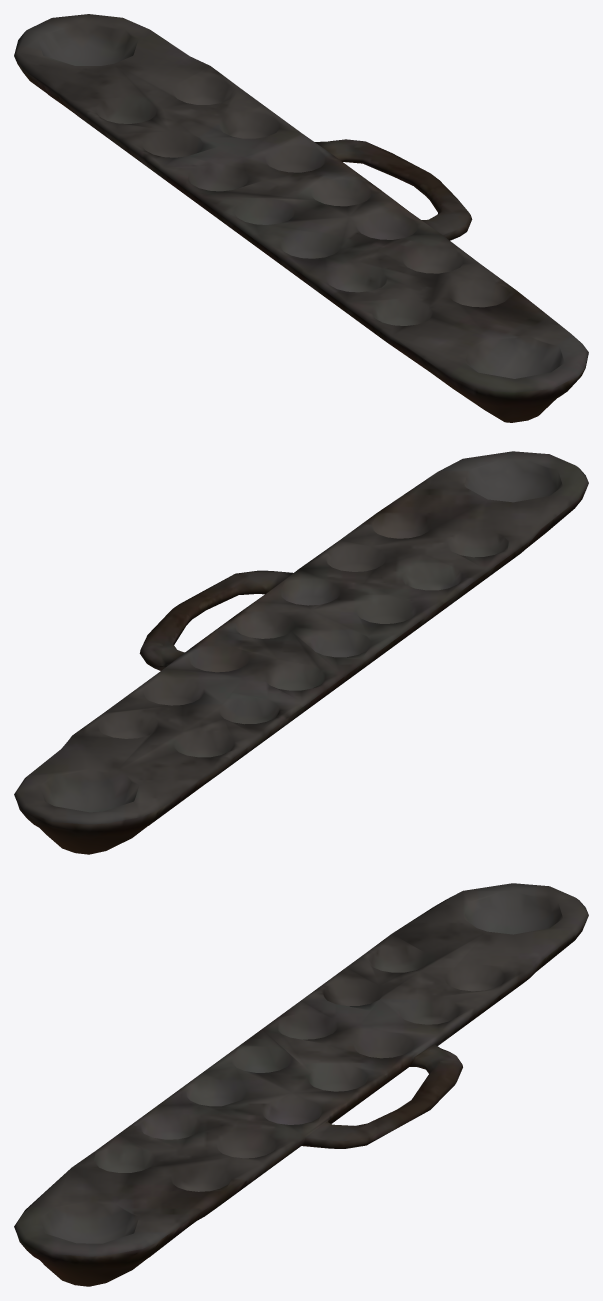
The model's file is sungka.glb.
3 renders of one model, top to bottom at view 1: azimuth 30°, elevation 25°; view 2: azimuth 150°, elevation 25°; view 3: azimuth 330°, elevation 25°, orthographic.
Parts seen in each view (by area): view 1: sungka_board; view 2: sungka_board; view 3: sungka_board.
Boxes of the visible parts, x1,y1,x2,y2 form: sungka_board: [14, 14, 588, 422]; sungka_board: [14, 451, 588, 854]; sungka_board: [14, 883, 588, 1286].
Bounding box in the file's own units: 0.14 × 0.0352 × 0.6006.
Materials: 1 (1 with a texture image).
